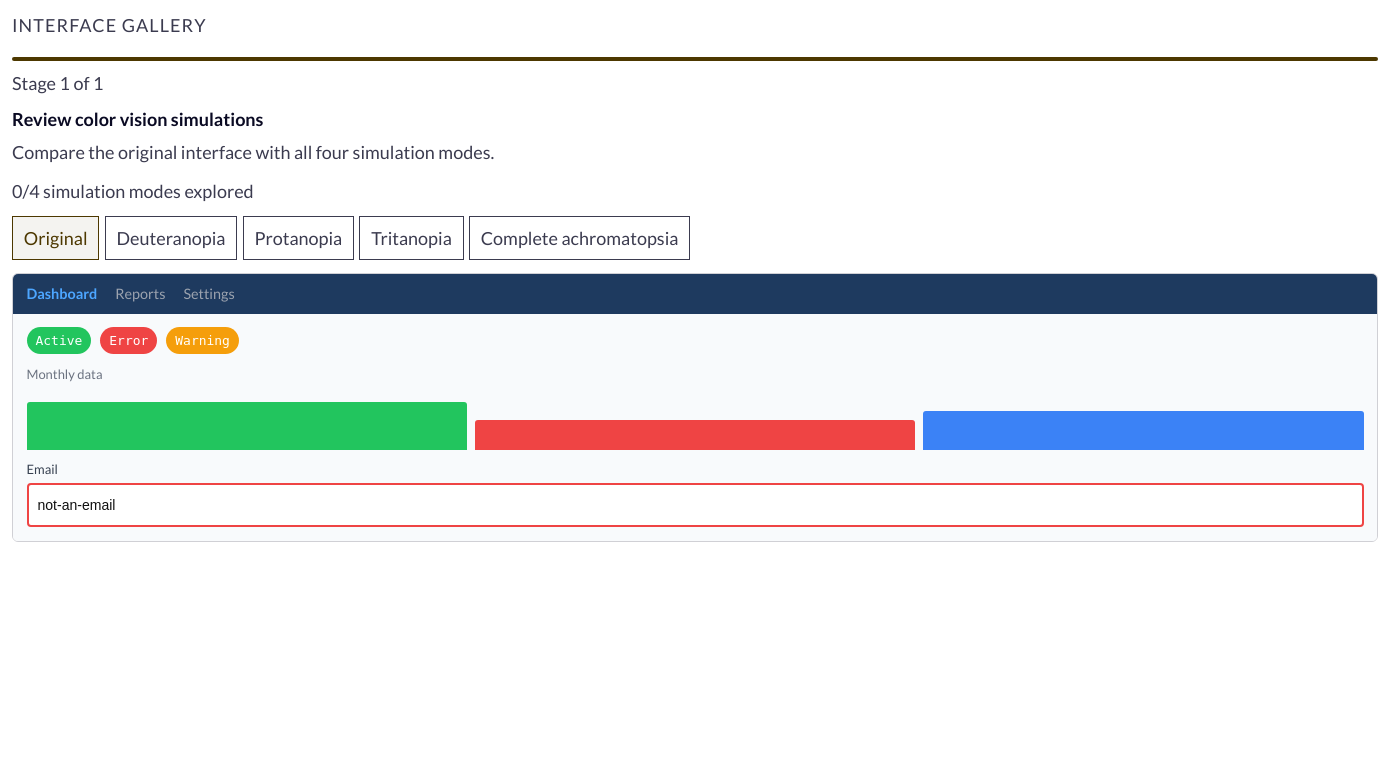
Test: Unit 4 exploration stages › tracks all four required simulation modes in one review stage
Expected: the text "Stage 1 of 1" is shown, [12,72,103,94]
Expected: the text "0/4 simulation modes explored" is shown, [12,180,254,202]
Click the button "Deuteranopia" at point(171, 238), box [105,216,237,260]
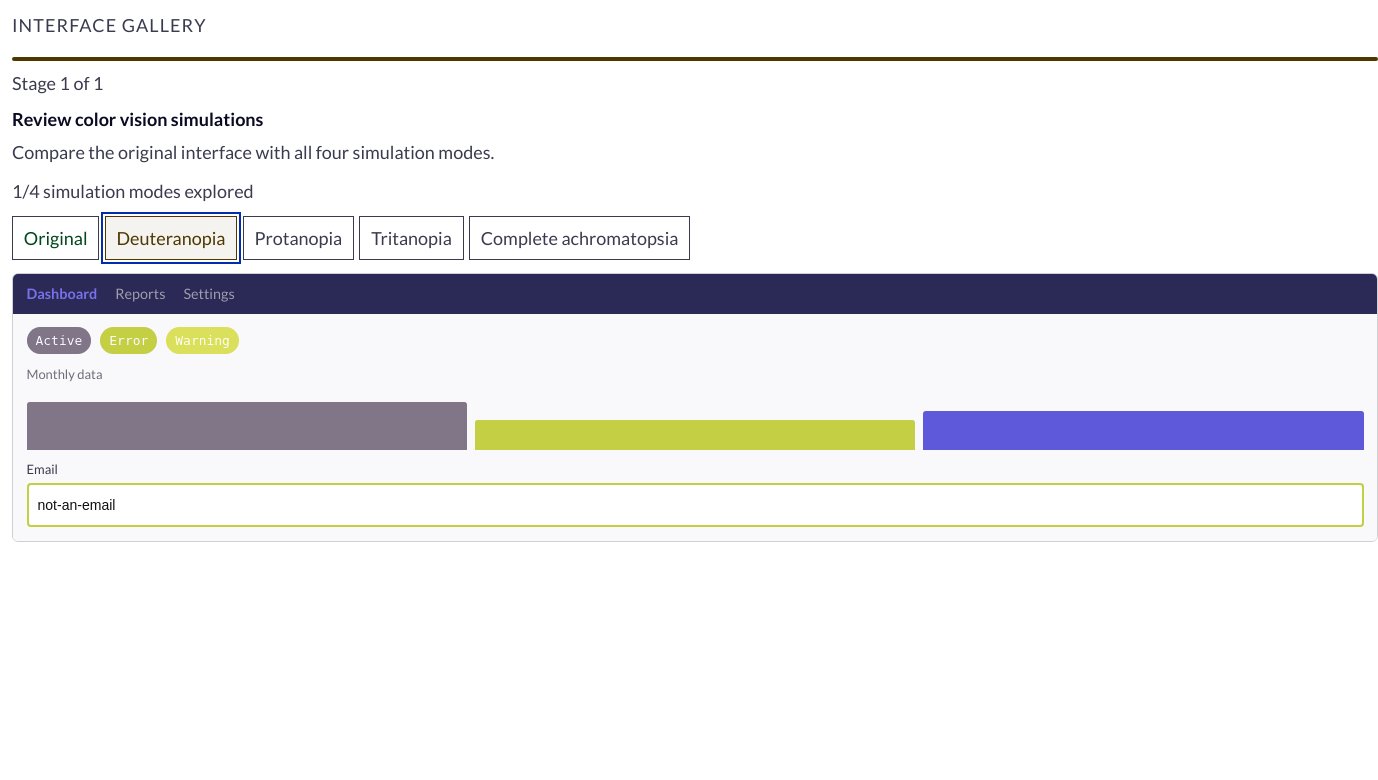
Click the button "Protanopia" at point(298, 238), box [243,216,354,260]
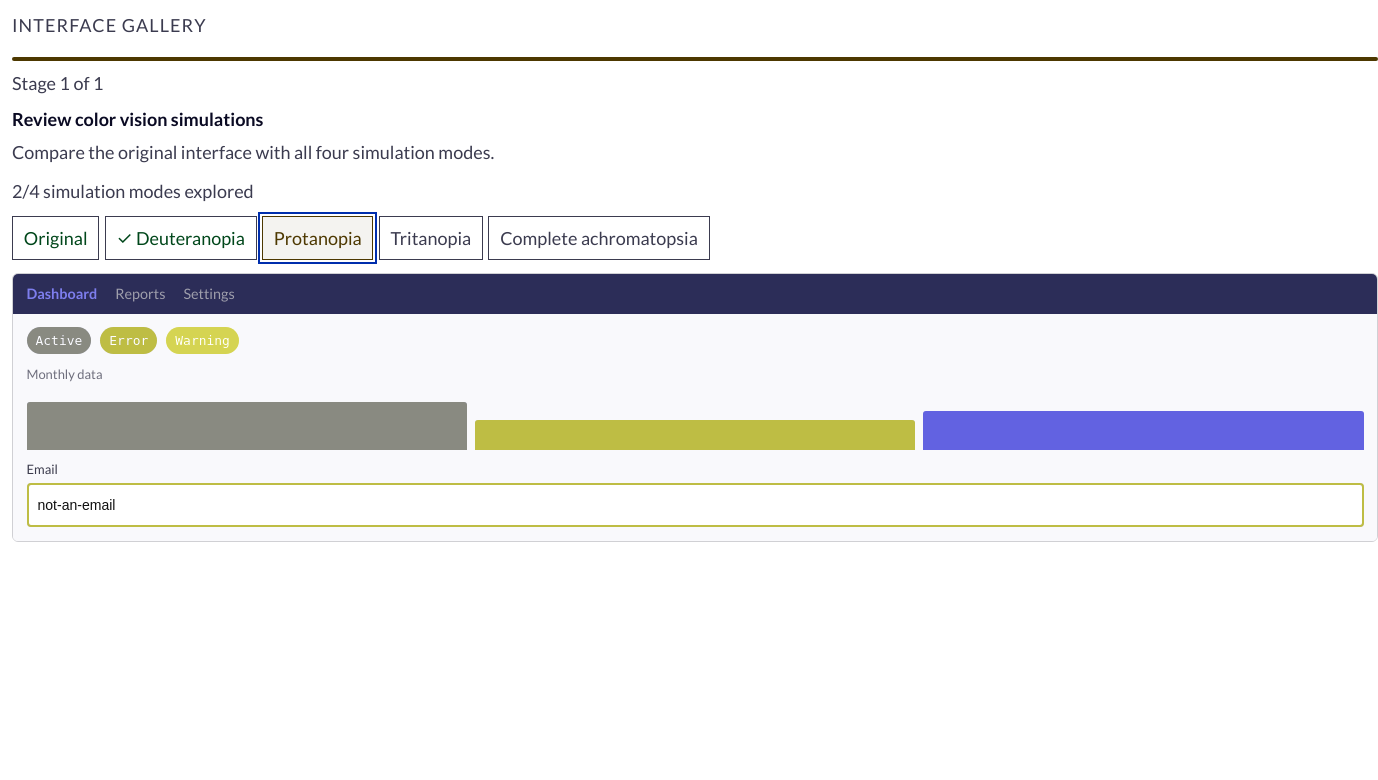
Click the button "Tritanopia" at point(431, 238), box [379,216,483,260]
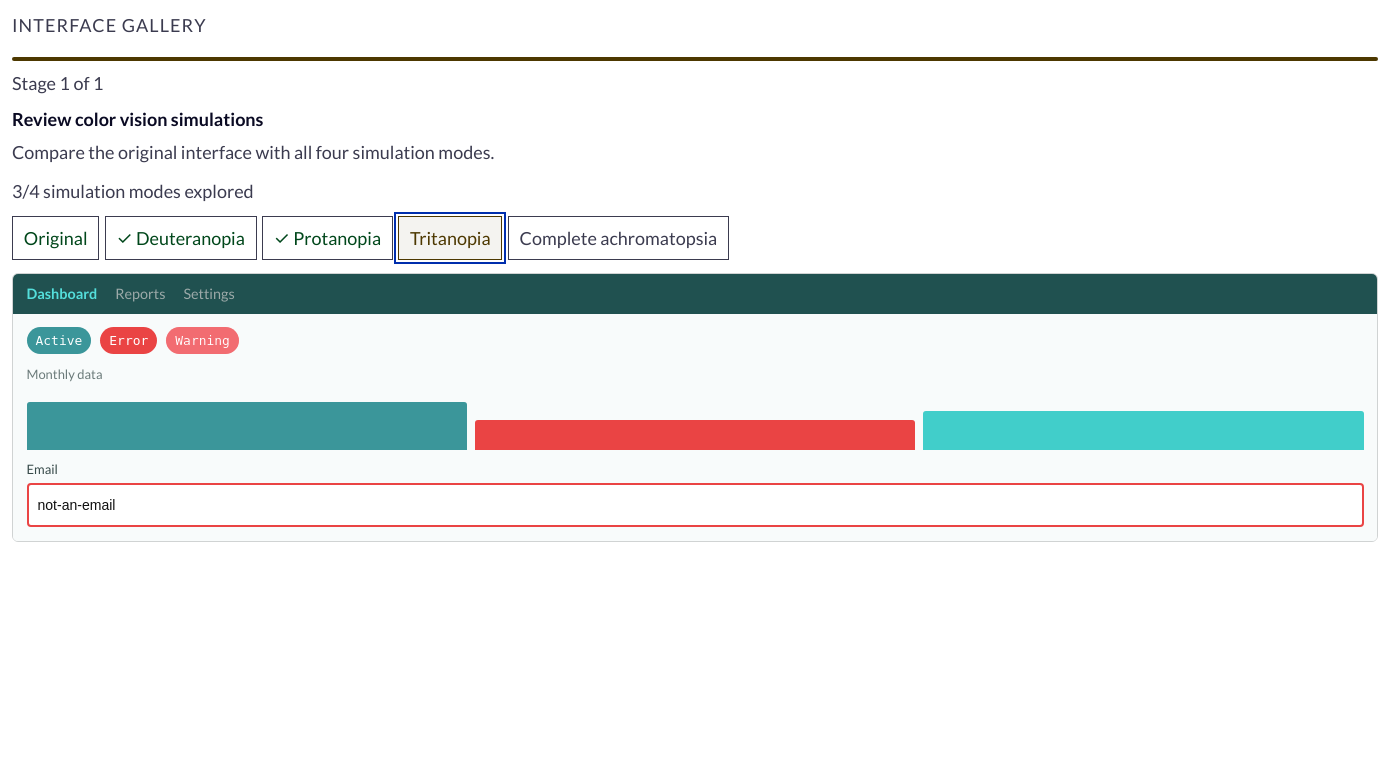
Expected: the text "3/4 simulation modes explored" is shown, [12,180,254,202]
Click the button "Complete achromatopsia" at point(618, 238), box [508,216,729,260]
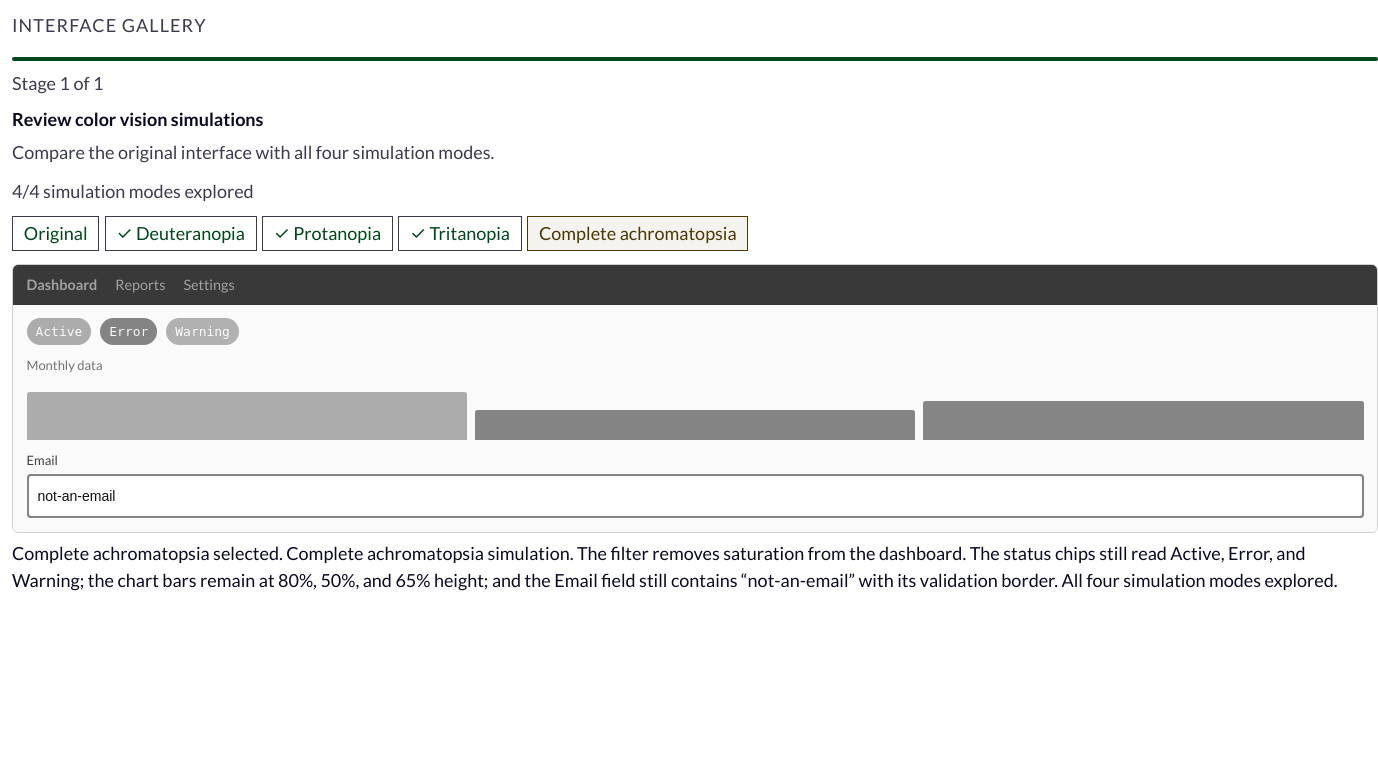
Expected: the text "4/4 simulation modes explored" is shown, [12,180,254,202]
Expected: the message shows "The filter removes saturation from the dashboard.", [12,542,1338,591]
